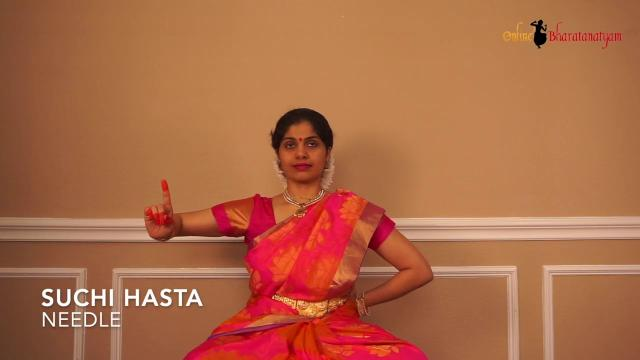soochi: (138, 163, 188, 256)
